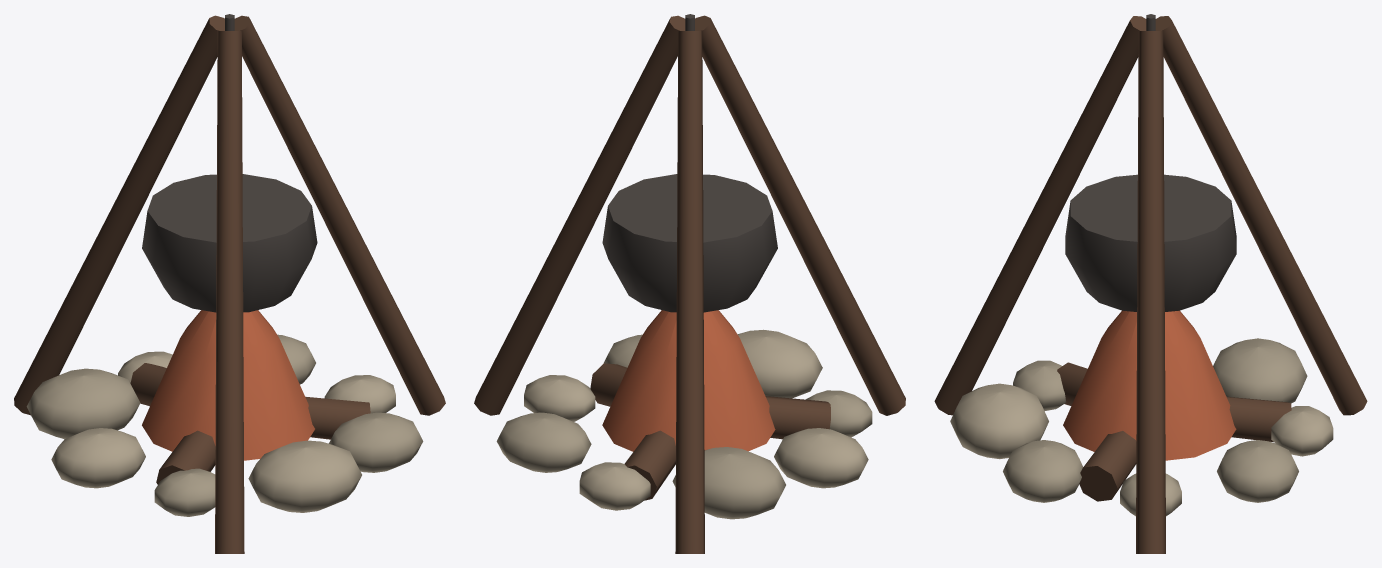
Rendered from campfire_cauldron.fbx.
3 renders of one model, left to right at view 1: azimuth 30°, elevation 25°; view 2: azimuth 150°, elevation 25°; view 3: azimuth 270°, elevation 25°, orthographic.
Visible parts, largest first — view 1: campfire_cauldron; view 2: campfire_cauldron; view 3: campfire_cauldron.
Part boxes in pixels (x1,y1,x2,y2): campfire_cauldron: (14, 14, 445, 553); campfire_cauldron: (474, 14, 905, 553); campfire_cauldron: (934, 14, 1367, 553).
Bounding box in the file's own units: 0.2608 × 0.2853 × 0.2519.
